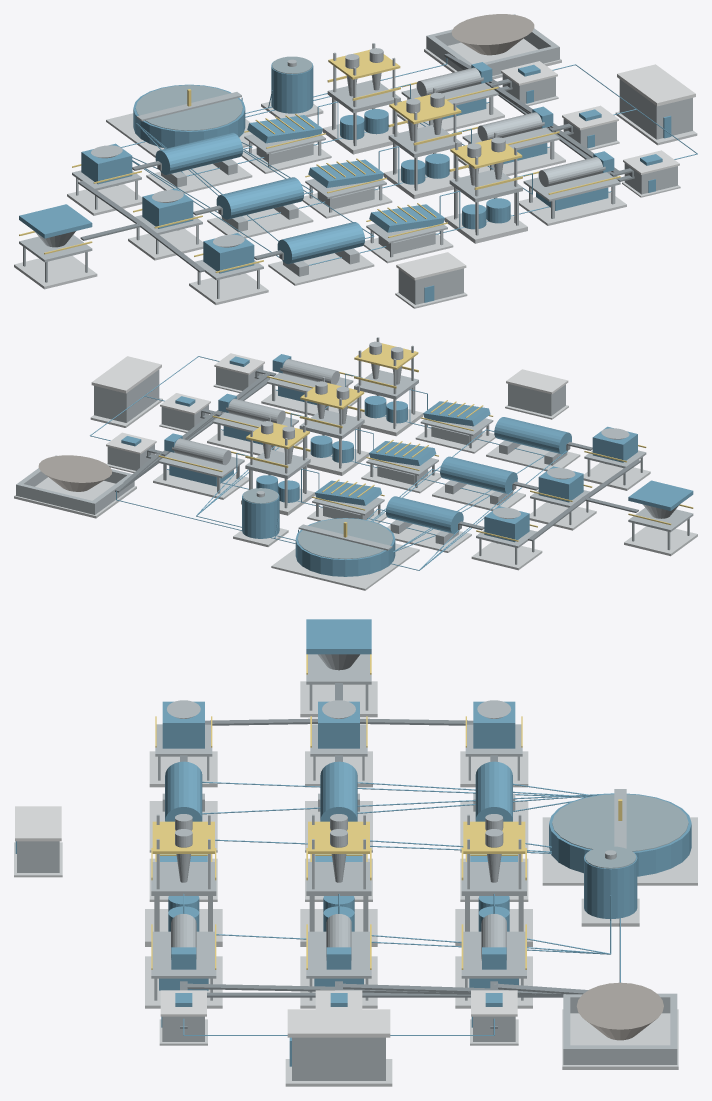
File: plant.glb
3 views of the same model, one above another, from view 1: azimuth 30°, elevation 25°; view 2: azimuth 150°, elevation 25°; view 3: azimuth 270°, elevation 25° (orthographic). The views are drawn at different scales.
Parts seen in each view (by area): view 1: D01.shared.thickener, D01.C.dms, D01.A.dms, D01.B.dms, D01.shared.tailings, D01.C.medium, D01.shared.lab, D01.shared.hopper, D01.C.scrubber, D01.B.scrubber, D01.A.scrubber, D01.C.screen (+13 smaller); view 2: D01.shared.thickener, D01.shared.tailings, D01.C.dms, D01.B.dms, D01.A.medium, D01.A.dms, D01.shared.lab, D01.shared.hopper, D01.C.scrubber, D01.B.scrubber, D01.A.scrubber, D01.C.screen (+12 smaller); view 3: D01.shared.thickener, D01.shared.tailings, D01.shared.lab, D01.C.dms, D01.B.dms, D01.A.dms, D01.shared.hopper, D01.C.medium, D01.A.medium, D01.B.medium, D01.shared.water, D01.A.crusher (+13 smaller).
Part boxes in pixels (x1,y1,x2,y2): D01.shared.thickener: (106,84,253,157); D01.C.dms: (444,132,527,243); D01.A.dms: (322,43,400,154); D01.B.dms: (383,87,461,198); D01.shared.tailings: (424,14,561,79); D01.C.medium: (519,151,626,225); D01.shared.lab: (615,64,697,145); D01.shared.hopper: (14,204,97,289); D01.C.scrubber: (268,222,374,285); D01.B.scrubber: (207,177,313,238); D01.A.scrubber: (146,132,252,193); D01.C.screen: (363,203,453,263); D01.shared.thickener: (271,518,419,590); D01.shared.tailings: (14,455,136,518); D01.C.dms: (354,337,423,436); D01.B.dms: (299,377,369,475); D01.A.medium: (153,433,248,499); D01.A.dms: (241,416,314,515); D01.shared.lab: (90,356,162,427); D01.shared.hopper: (624,480,697,556); D01.C.scrubber: (486,417,580,471); D01.B.scrubber: (432,456,525,510); D01.A.scrubber: (386,496,471,552); D01.C.screen: (415,400,495,453); D01.shared.thickener: (542,789,697,885); D01.shared.tailings: (562,982,678,1069); D01.shared.lab: (285,1009,392,1086); D01.C.dms: (145,814,222,946); D01.B.dms: (300,814,377,946); D01.A.dms: (455,814,532,946); D01.shared.hopper: (300,619,377,717); D01.C.medium: (145,914,222,1008); D01.A.medium: (455,914,532,1008); D01.B.medium: (300,914,377,1008); D01.shared.water: (581,846,639,926); D01.A.crusher: (460,700,528,787).
Size of the model in its own units: 98 by 12 by 70.5.
